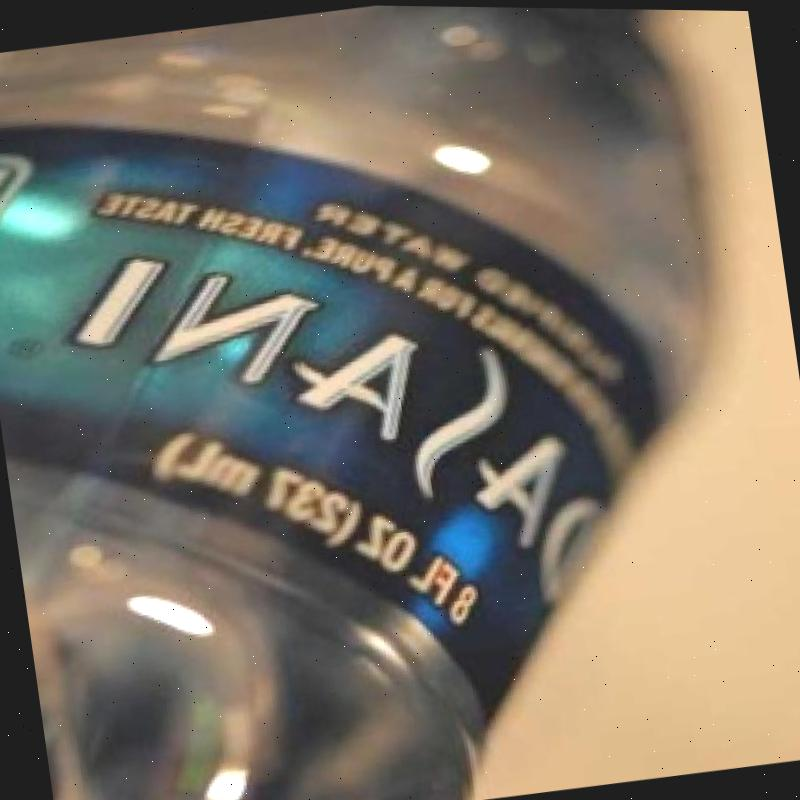botella: (0, 0, 777, 800)
